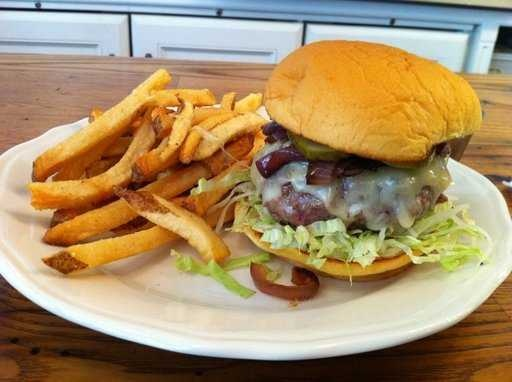hamburger: (249, 40, 471, 290)
